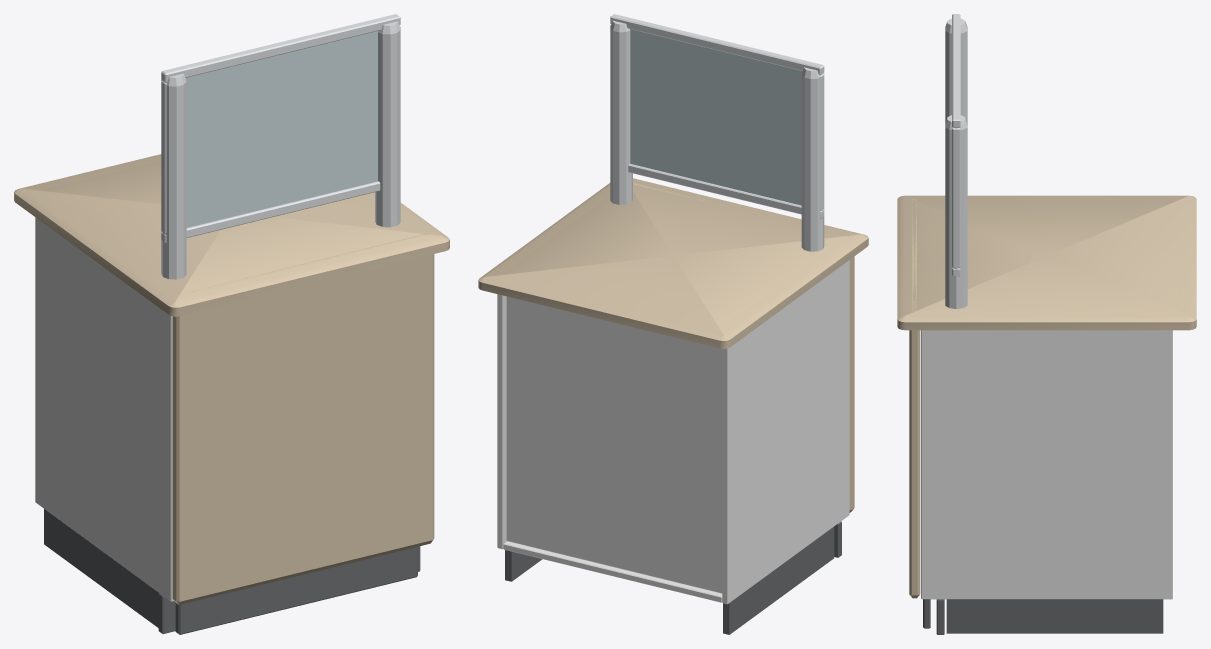
The model's file is clinic-and-veterinary-practice-reception-desk-corner-c7d220f9__16722.glb.
The picture shows the model from 3 angles, left to right: view 1: azimuth 30°, elevation 25°; view 2: azimuth 150°, elevation 25°; view 3: azimuth 270°, elevation 25°; orthographic projection. The views are drawn at different scales.
Parts seen in each view (by area): view 1: reception-desk-corner; view 2: reception-desk-corner; view 3: reception-desk-corner.
Part boxes in pixels (box(x1,y1,x2,y2)): reception-desk-corner: box(14, 14, 449, 634); reception-desk-corner: box(478, 14, 868, 634); reception-desk-corner: box(897, 14, 1196, 634).
Size of the model in its own units: 0.76 by 1.43 by 0.76.
